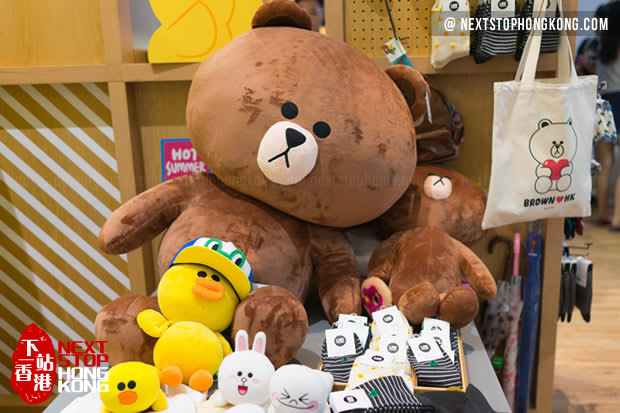line_brown: (176, 1, 446, 231)
